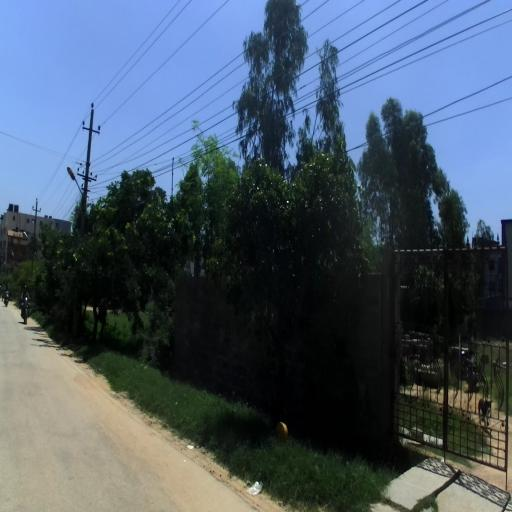street_light_0: (67, 166, 87, 214), (23, 231, 35, 255)
